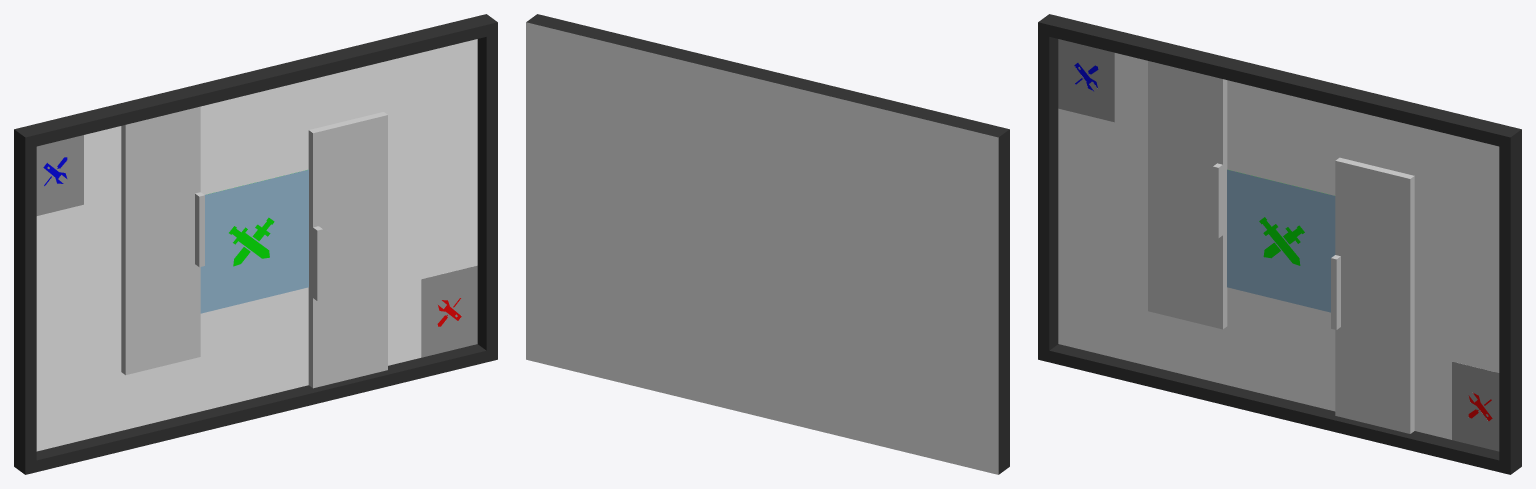
Rendered from rmul_2026.dae.
3 views of the same model, side by side, from view 1: azimuth 30°, elevation 25°; view 2: azimuth 150°, elevation 25°; view 3: azimuth 330°, elevation 25° (orthographic).
Parts seen in each view (by area): view 1: node_3bee6428_44ad_4f16_9e85_5aff91820019_mesh2, node_3bee6428_44ad_4f16_9e85_5aff91820019_mesh1, node_3bee6428_44ad_4f16_9e85_5aff91820019_mesh0, node_3bee6428_44ad_4f16_9e85_5aff91820019_mesh4, node_3bee6428_44ad_4f16_9e85_5aff91820019_mesh5, node_3bee6428_44ad_4f16_9e85_5aff91820019_mesh3; view 2: node_3bee6428_44ad_4f16_9e85_5aff91820019_mesh2, node_3bee6428_44ad_4f16_9e85_5aff91820019_mesh0; view 3: node_3bee6428_44ad_4f16_9e85_5aff91820019_mesh2, node_3bee6428_44ad_4f16_9e85_5aff91820019_mesh1, node_3bee6428_44ad_4f16_9e85_5aff91820019_mesh0, node_3bee6428_44ad_4f16_9e85_5aff91820019_mesh4, node_3bee6428_44ad_4f16_9e85_5aff91820019_mesh5, node_3bee6428_44ad_4f16_9e85_5aff91820019_mesh3.
Part boxes in pixels (left/top/right/bottom): node_3bee6428_44ad_4f16_9e85_5aff91820019_mesh2: left=36, top=39, right=477, bottom=451; node_3bee6428_44ad_4f16_9e85_5aff91820019_mesh1: left=121, top=106, right=387, bottom=388; node_3bee6428_44ad_4f16_9e85_5aff91820019_mesh0: left=14, top=14, right=497, bottom=474; node_3bee6428_44ad_4f16_9e85_5aff91820019_mesh4: left=200, top=169, right=308, bottom=313; node_3bee6428_44ad_4f16_9e85_5aff91820019_mesh5: left=36, top=135, right=477, bottom=357; node_3bee6428_44ad_4f16_9e85_5aff91820019_mesh3: left=229, top=217, right=274, bottom=266; node_3bee6428_44ad_4f16_9e85_5aff91820019_mesh2: left=526, top=22, right=998, bottom=474; node_3bee6428_44ad_4f16_9e85_5aff91820019_mesh0: left=526, top=14, right=1009, bottom=474; node_3bee6428_44ad_4f16_9e85_5aff91820019_mesh2: left=1058, top=53, right=1499, bottom=439; node_3bee6428_44ad_4f16_9e85_5aff91820019_mesh1: left=1148, top=61, right=1414, bottom=433; node_3bee6428_44ad_4f16_9e85_5aff91820019_mesh0: left=1038, top=14, right=1521, bottom=474; node_3bee6428_44ad_4f16_9e85_5aff91820019_mesh4: left=1227, top=169, right=1335, bottom=312; node_3bee6428_44ad_4f16_9e85_5aff91820019_mesh5: left=1058, top=39, right=1499, bottom=451; node_3bee6428_44ad_4f16_9e85_5aff91820019_mesh3: left=1259, top=217, right=1304, bottom=265.
Size of the model in its own units: 12600 by 520 by 8600.
